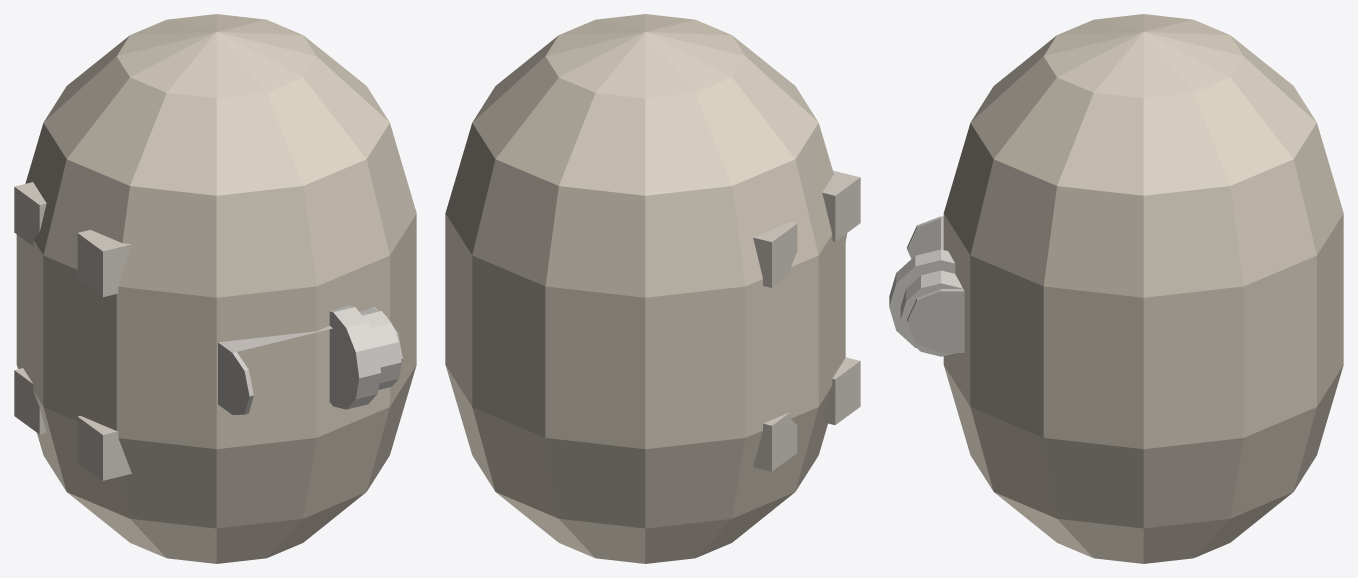
Rendered from _torso-lowertorso.glb.
The picture shows the model from 3 angles, left to right: view 1: azimuth 30°, elevation 25°; view 2: azimuth 150°, elevation 25°; view 3: azimuth 270°, elevation 25°; orthographic projection.
Size of the model in its own units: 0.158 by 0.224 by 0.1795.
